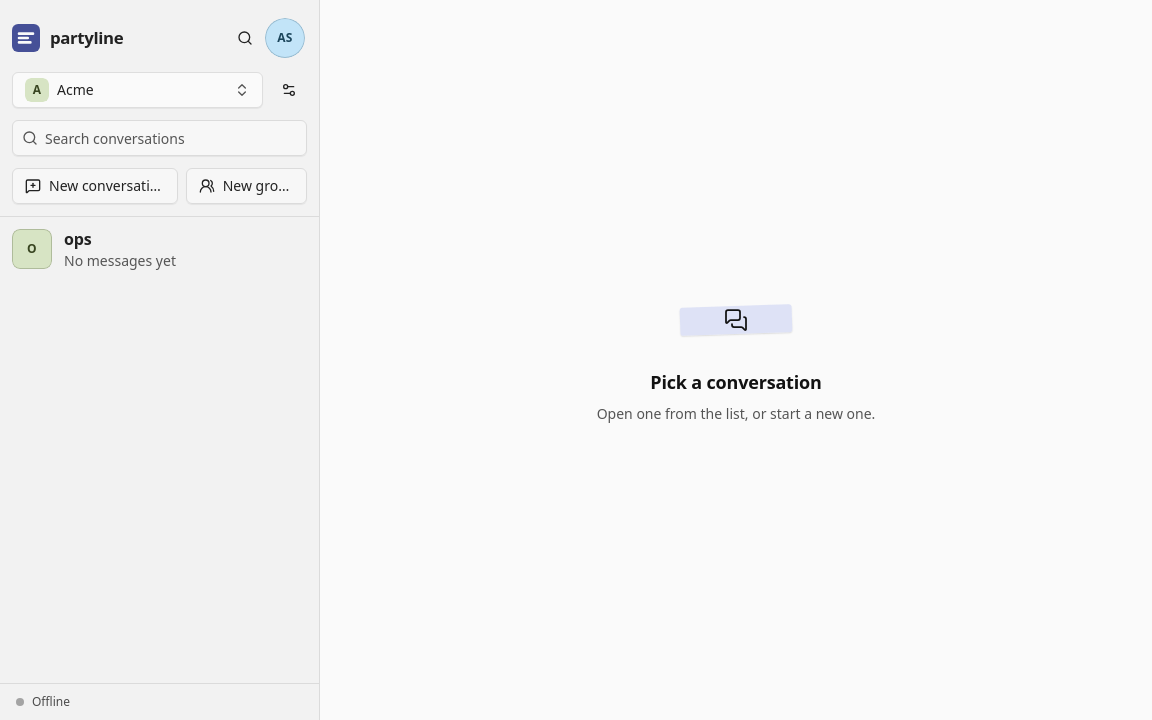
the gear beside the switcher (SET-09) › hides positions from a member
Click the button named "Pages of Acme" at (289, 90), box top-left (271, 72), bottom-right (307, 108)
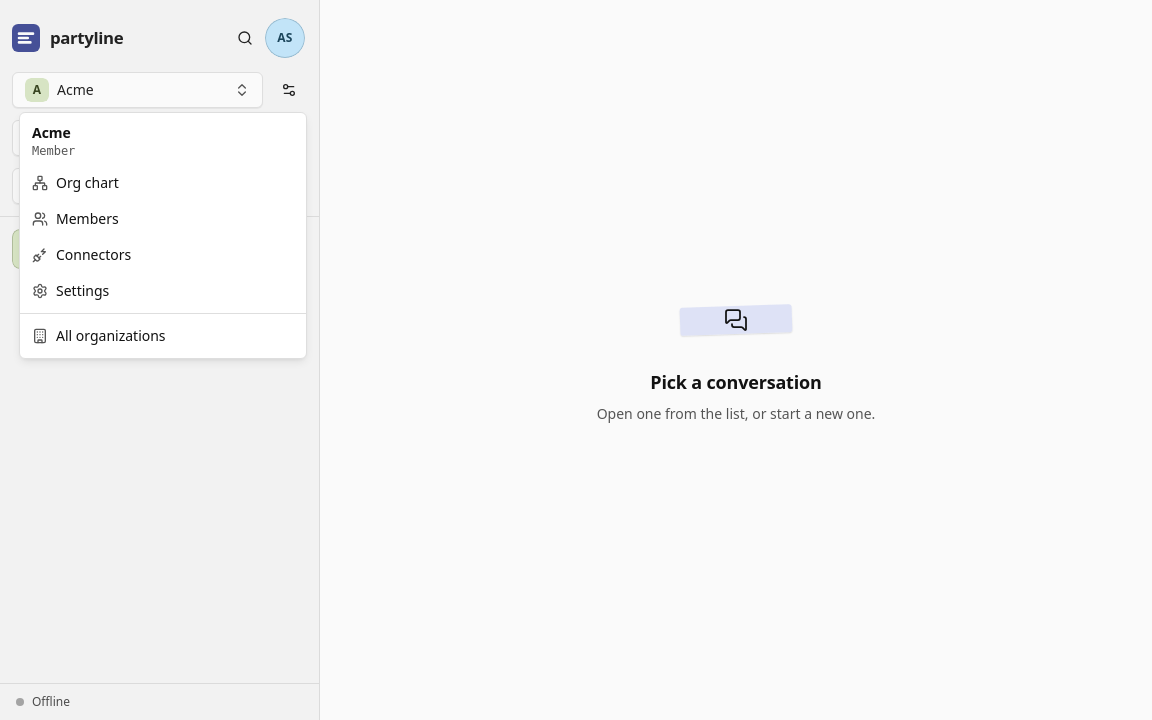
Expected: the menu item "Members" is shown, top-left (32, 209), bottom-right (119, 228)
